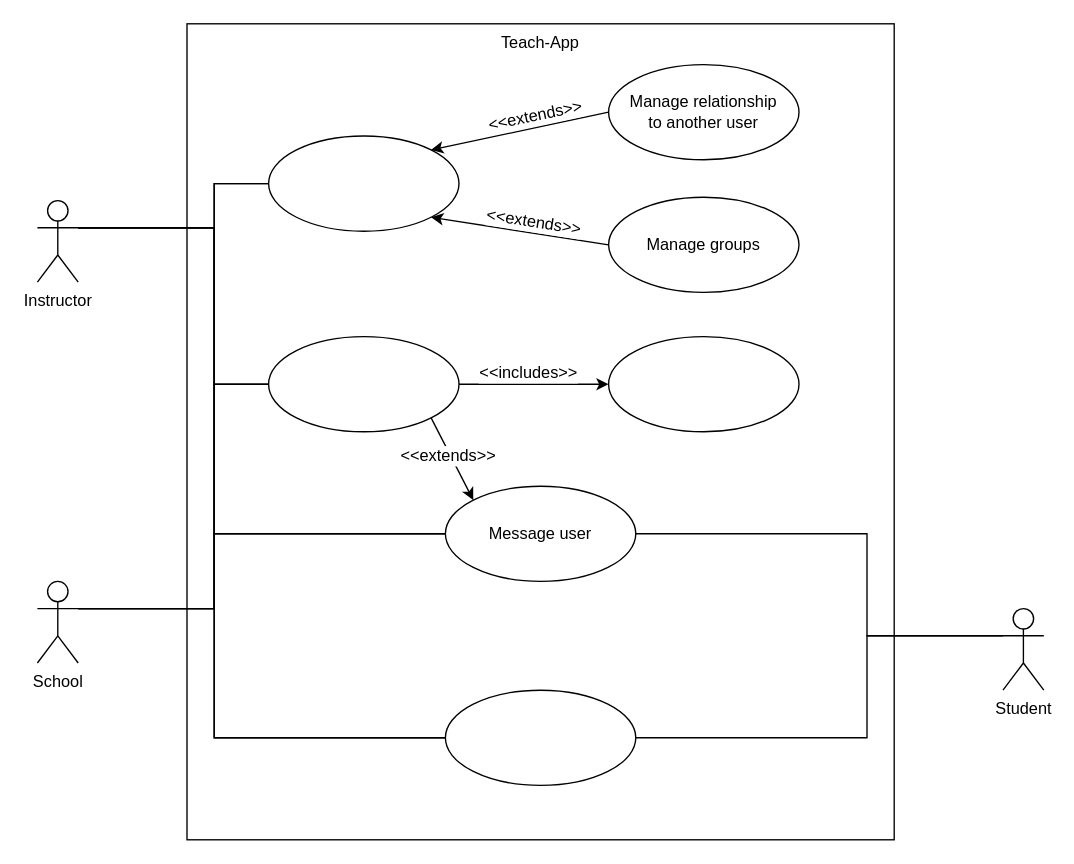
The diagram is 1074 pixels wide and 864 high, and some of its shapes have lost their labels. Here are the shapes that lost their labels. From the top down, the box of each, then its label:
(267, 135, 459, 231): Manage user
(267, 335, 459, 432): Share files
(607, 335, 799, 432): Set share permissions
(444, 689, 636, 785): View upcoming lessons
